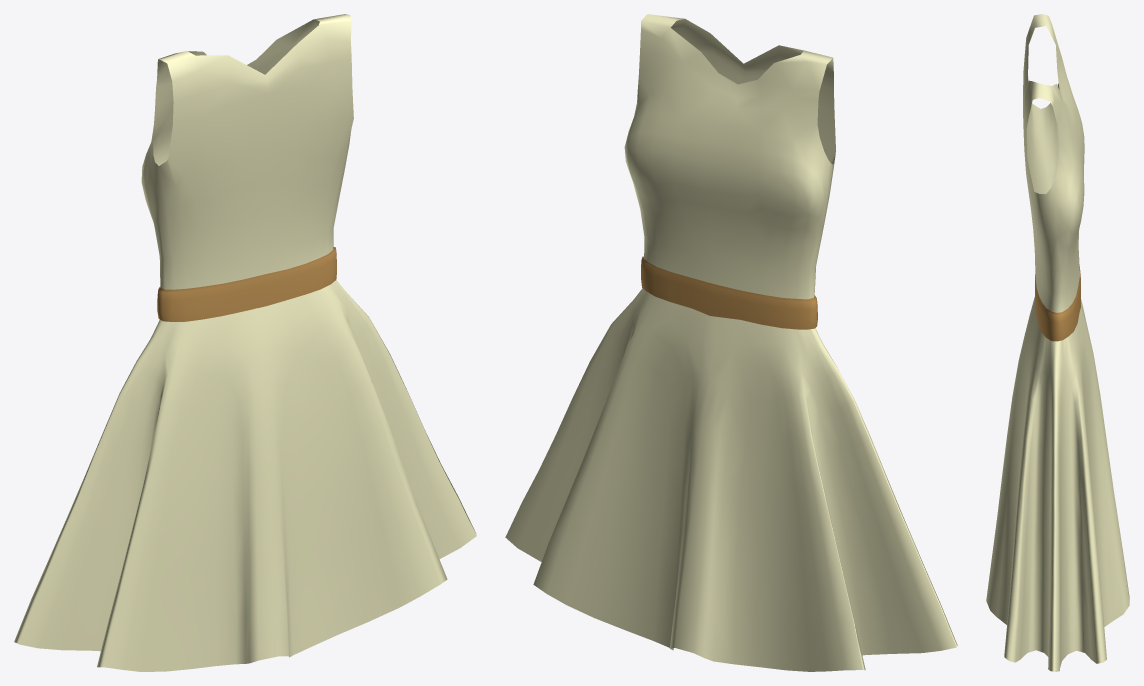
File: Dress07.fbx
The picture shows the model from 3 angles, left to right: view 1: azimuth 30°, elevation 25°; view 2: azimuth 150°, elevation 25°; view 3: azimuth 270°, elevation 25°; orthographic projection. The views are drawn at different scales.
Parts seen in each view (by area): view 1: Dress07; view 2: Dress07; view 3: Dress07.
Part boxes in pixels (x1,y1,x2,y2): Dress07: [14, 14, 476, 671]; Dress07: [505, 14, 957, 671]; Dress07: [986, 14, 1129, 671].
Size of the model in its own units: 75.43 by 95.57 by 22.14.
